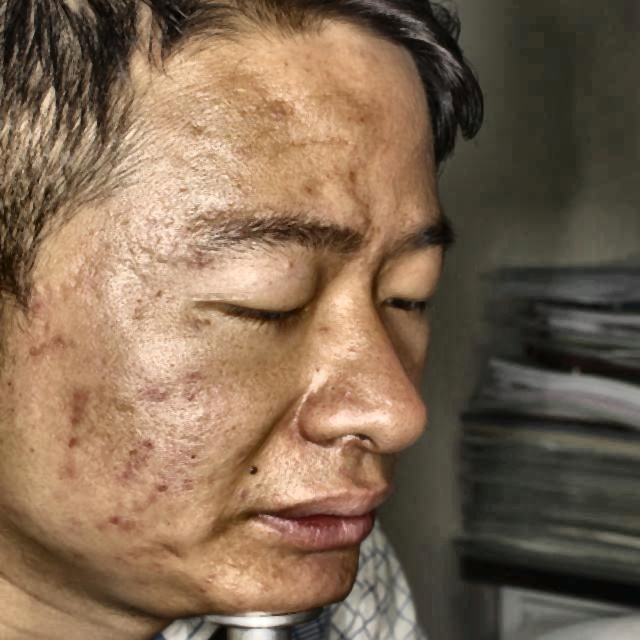pustule: (100, 499, 134, 535), (58, 429, 94, 456), (71, 386, 98, 420), (118, 438, 140, 478), (147, 476, 175, 506), (27, 296, 51, 325), (41, 334, 68, 358), (193, 573, 219, 597)
